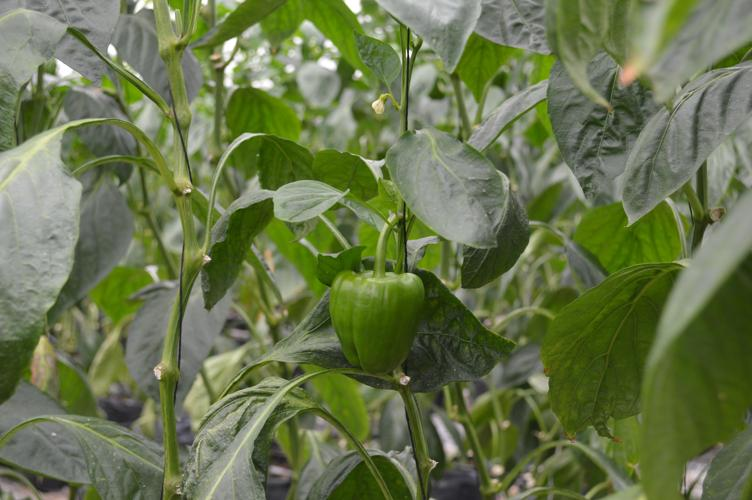BellPepper: (323, 265, 431, 392)
